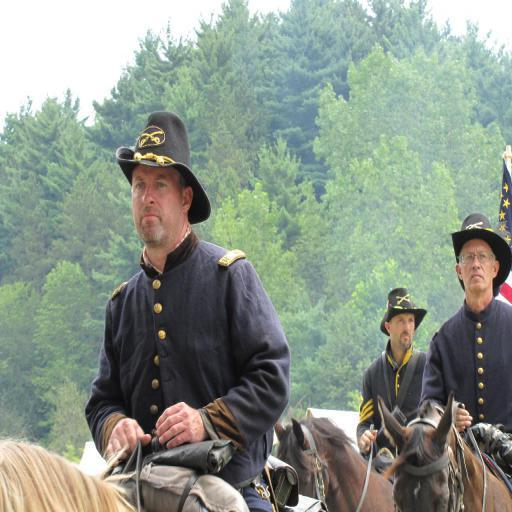horse: (374, 390, 512, 512), (260, 416, 397, 512), (0, 441, 140, 512)
